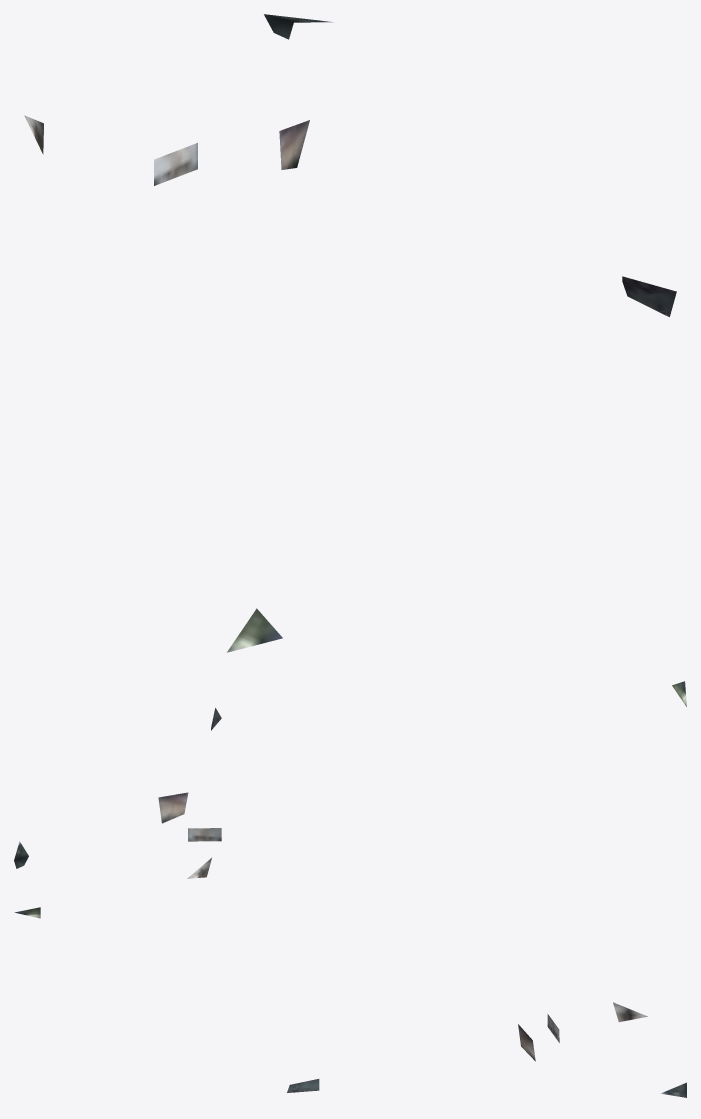
3 views of the same model, one above another, from view 1: azimuth 30°, elevation 25°; view 2: azimuth 150°, elevation 25°; view 3: azimuth 270°, elevation 25° (orthographic). The views are drawn at different scales.
Visible parts, largest first — view 1: 304362727043706276_1; view 2: 304362727043706276_1; view 3: 304362727043706276_1.
Boxes of the visible parts, <box> form: 304362727043706276_1: <box>24,14,676,652</box>; 304362727043706276_1: <box>14,681,686,878</box>; 304362727043706276_1: <box>14,907,686,1097</box>.
Bounding box in the file's own units: 87.71 × 8.61 × 140.
1 material, 1 textured.
